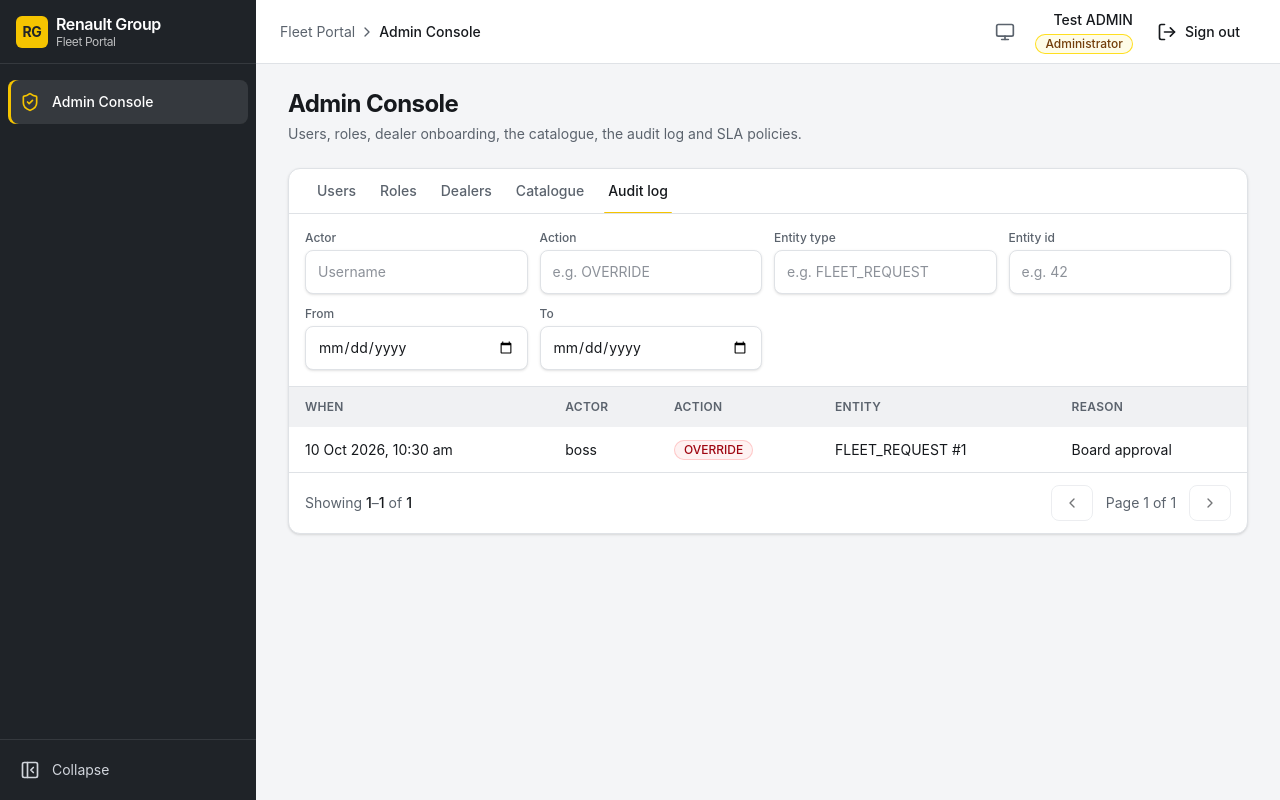
Test: roles, dealers and audit log › filters the audit log and shows before/after of an entry
The width and height of the screenshot is (1280, 800).
Check: the text "OVERRIDE" is shown, box [674, 440, 753, 460]
In the field labelled "Action": x=651, y=272 [540, 250, 762, 294], type "OVERRIDE"
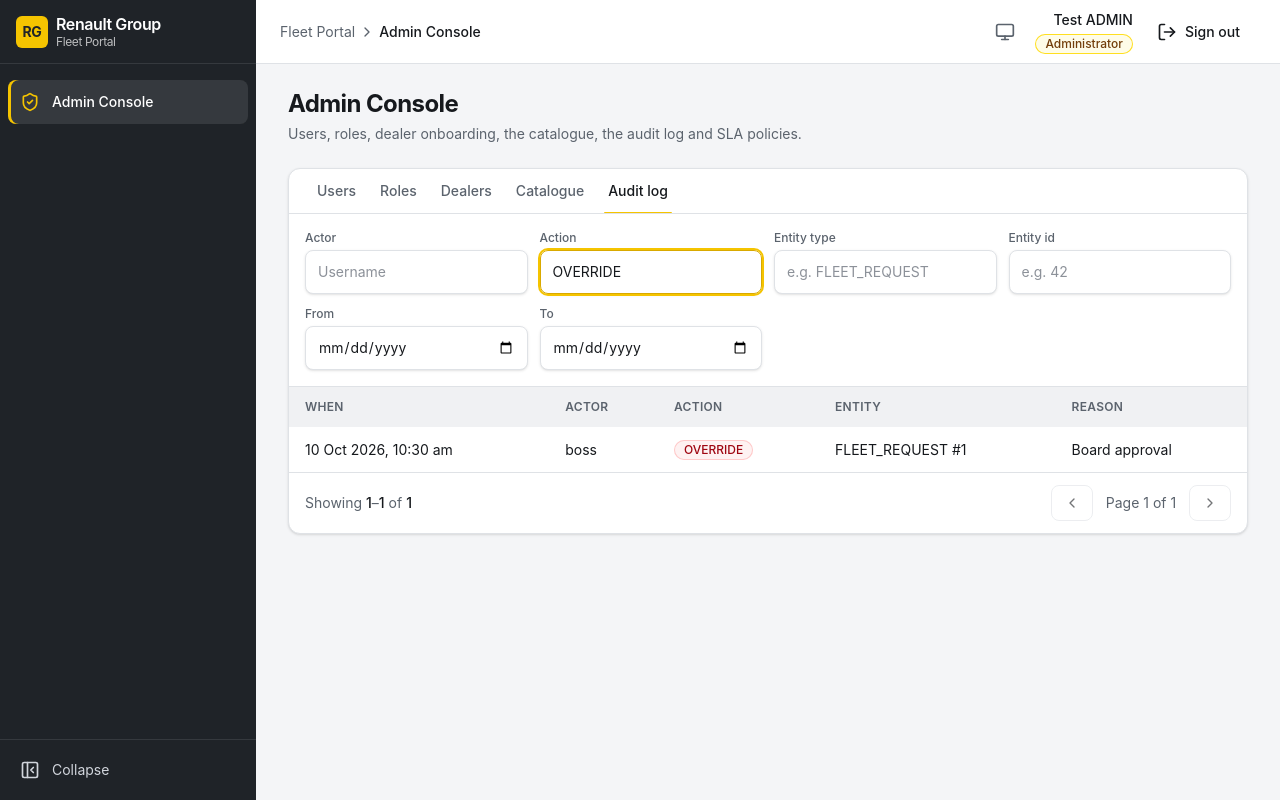
In the field labelled "Entity type": x=885, y=272 [774, 250, 996, 294], type "FLEET_REQUEST"
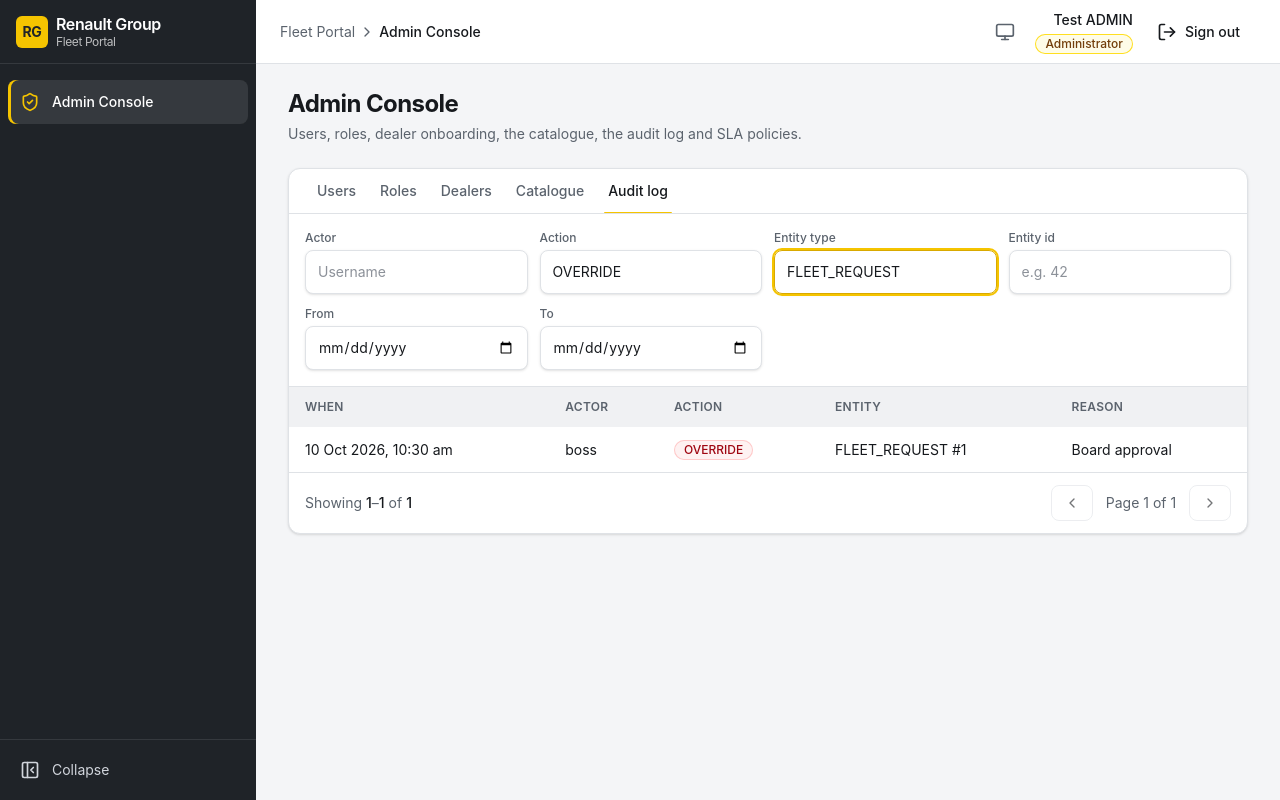
Click the text "Board approval": x=1122, y=449 [1072, 440, 1172, 458]
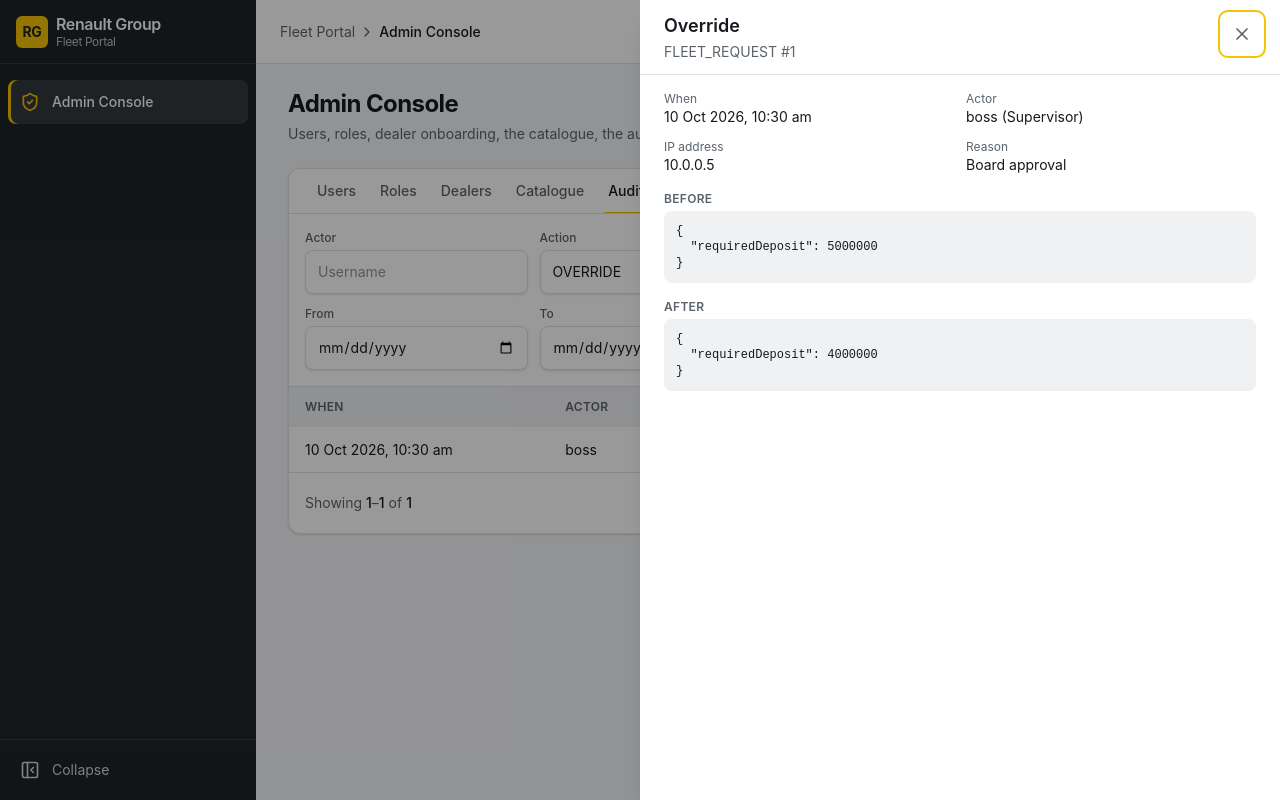
Check: the dialog shows "10.0.0.5", box [664, 156, 715, 173]
Check: the dialog shows "\"requiredDeposit\": 5000000", box [676, 224, 878, 270]
Check: the dialog shows "\"requiredDeposit\": 4000000", box [676, 332, 878, 378]
